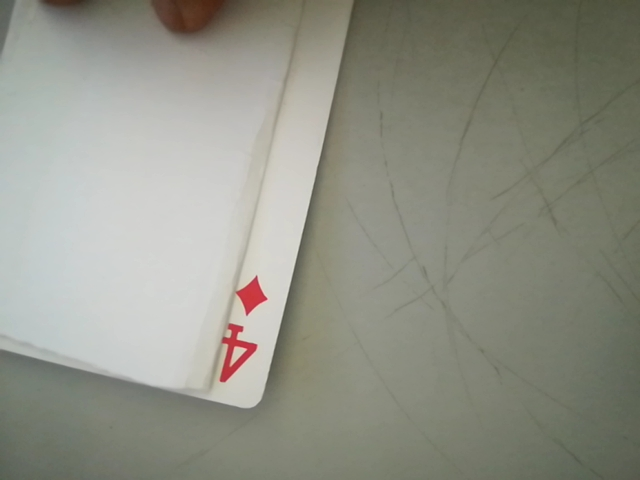fk 4: (202, 274, 276, 397)
